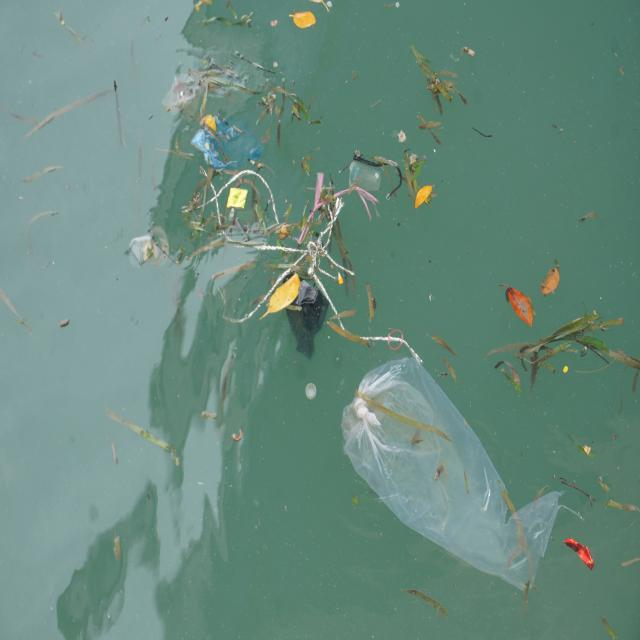Bungkus Minuman: (130, 224, 173, 272)
Kantong Plastik: (342, 353, 563, 593), (193, 111, 267, 180), (284, 280, 331, 361)
